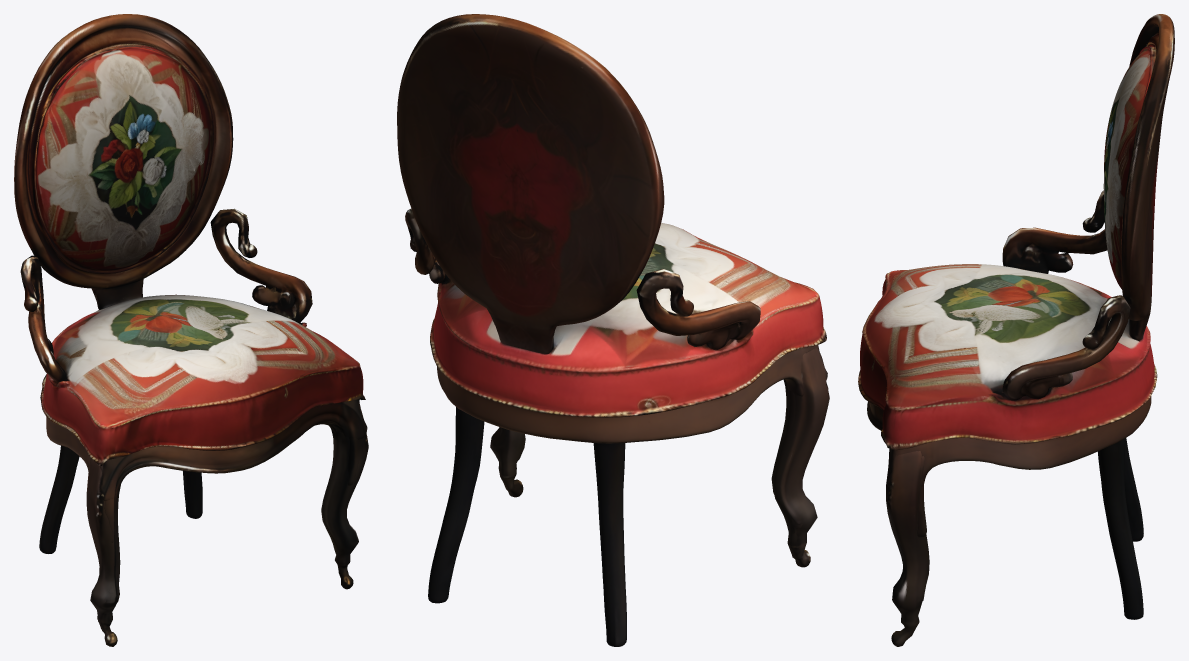
The picture shows the model from 3 angles, left to right: view 1: azimuth 30°, elevation 25°; view 2: azimuth 150°, elevation 25°; view 3: azimuth 270°, elevation 25°; orthographic projection. The views are drawn at different scales.
Parts seen in each view (by area): view 1: root.1, root.0, root.2, root.3, root.4, root.5, root.7; view 2: root.1, root.0, root.3, root.4, root.5, root.2; view 3: root.0, root.1, root.2, root.5, root.4, root.7.
Part boxes in pixels (left/top/right/bottom): root.1: left=14, top=14, right=312, bottom=382; root.0: left=40, top=294, right=365, bottom=500; root.2: left=321, top=409, right=368, bottom=589; root.3: left=86, top=458, right=120, bottom=646; root.4: left=39, top=445, right=79, bottom=553; root.5: left=183, top=471, right=202, bottom=518; root.7: left=104, top=434, right=363, bottom=542; root.1: left=397, top=14, right=760, bottom=354; root.0: left=430, top=223, right=826, bottom=443; root.3: left=771, top=348, right=829, bottom=567; root.4: left=593, top=443, right=626, bottom=646; root.5: left=428, top=407, right=484, bottom=603; root.2: left=490, top=427, right=525, bottom=497; root.0: left=858, top=264, right=1157, bottom=487; root.1: left=1002, top=14, right=1174, bottom=400; root.2: left=887, top=451, right=929, bottom=646; root.5: left=1098, top=438, right=1143, bottom=619; root.4: left=1124, top=438, right=1143, bottom=541; root.7: left=886, top=456, right=926, bottom=537.
Bounding box in the file's own units: 0.5223 × 0.935 × 0.4818.
Materials: 8 (8 with a texture image).
